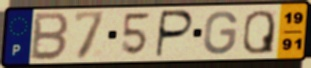5: (119, 11, 153, 58)
7: (73, 10, 108, 62)
B: (28, 11, 71, 62)
G: (202, 9, 240, 57)
P: (153, 9, 196, 60)
Q: (241, 9, 276, 56)
